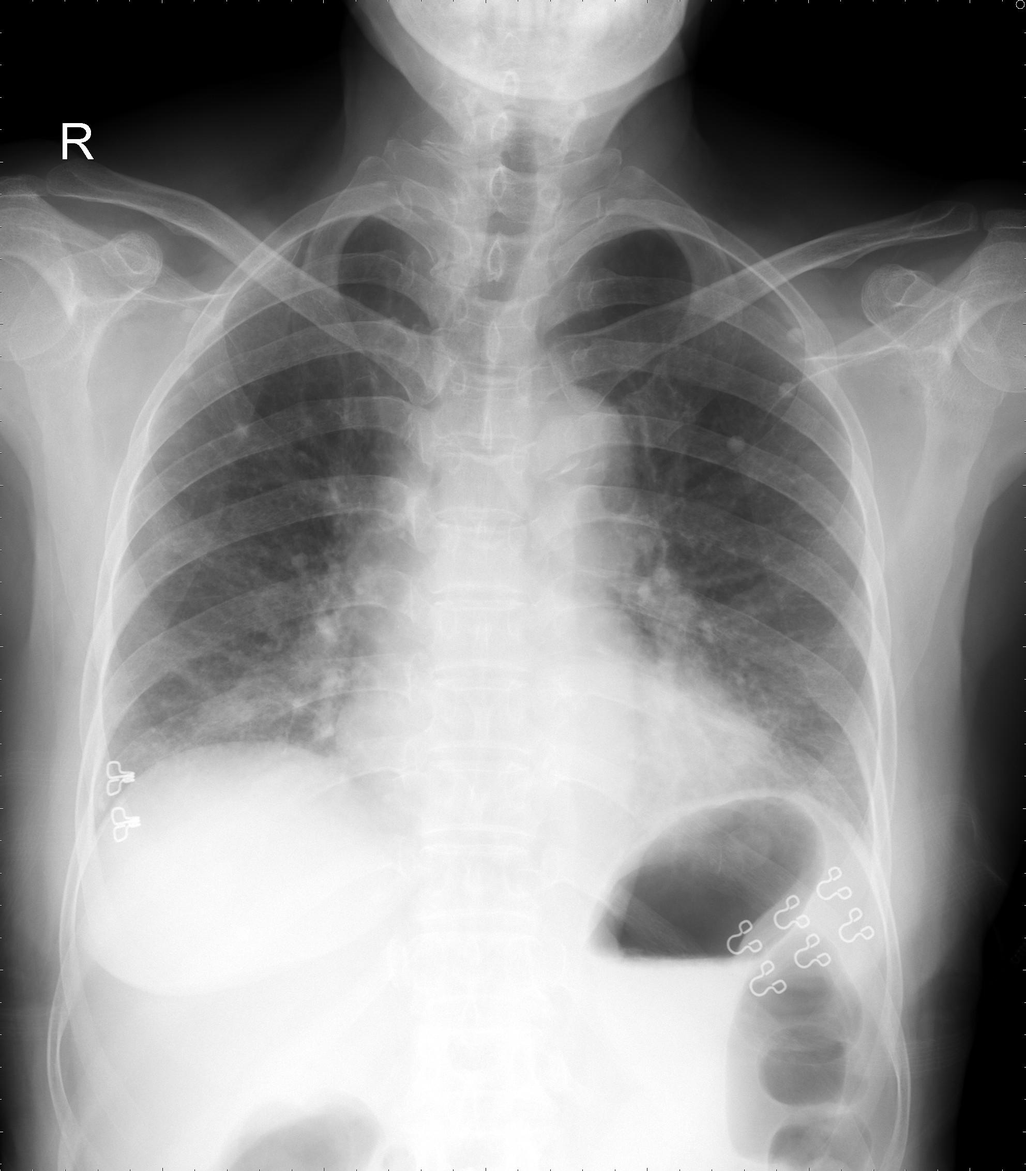Aortic enlargement: (502, 383, 630, 496)
Cardiomegaly: (328, 702, 791, 795)
Pulmonary fibrosis: (233, 421, 247, 438)
